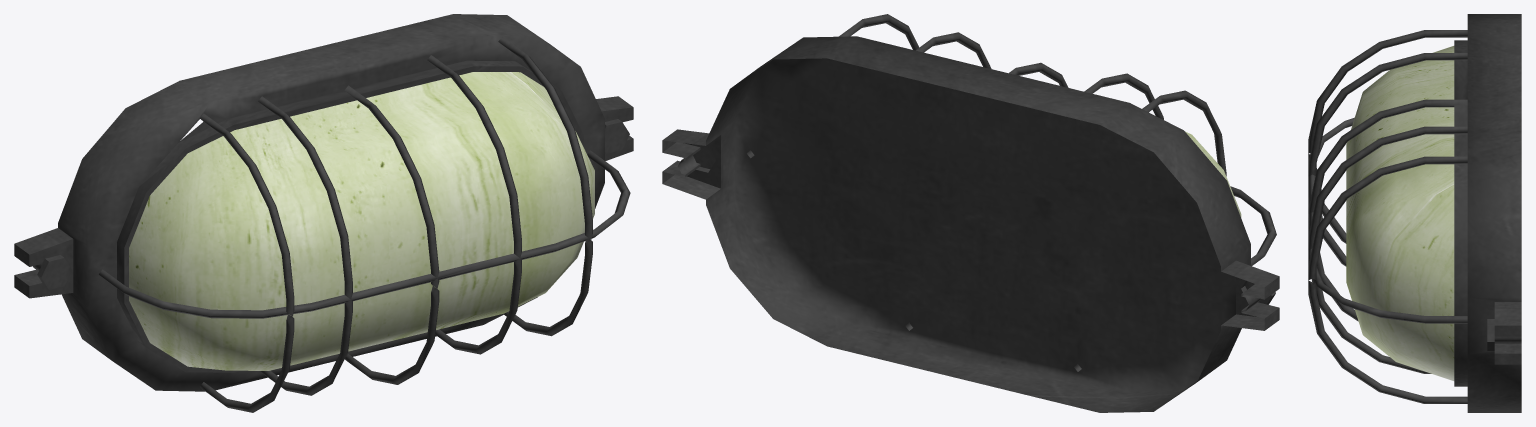
The model's file is Lamp_wall.fbx.
The picture shows the model from 3 angles, left to right: view 1: azimuth 30°, elevation 25°; view 2: azimuth 150°, elevation 25°; view 3: azimuth 270°, elevation 25°; orthographic projection. The views are drawn at different scales.
Visible parts, largest first — view 1: Group1; view 2: Group1; view 3: Group1.
Part boxes in pixels (<box>): Group1: <box>14,14,633,412</box>; Group1: <box>662,14,1279,412</box>; Group1: <box>1308,14,1521,412</box>.
Size of the model in its own units: 374 by 173 by 128.
